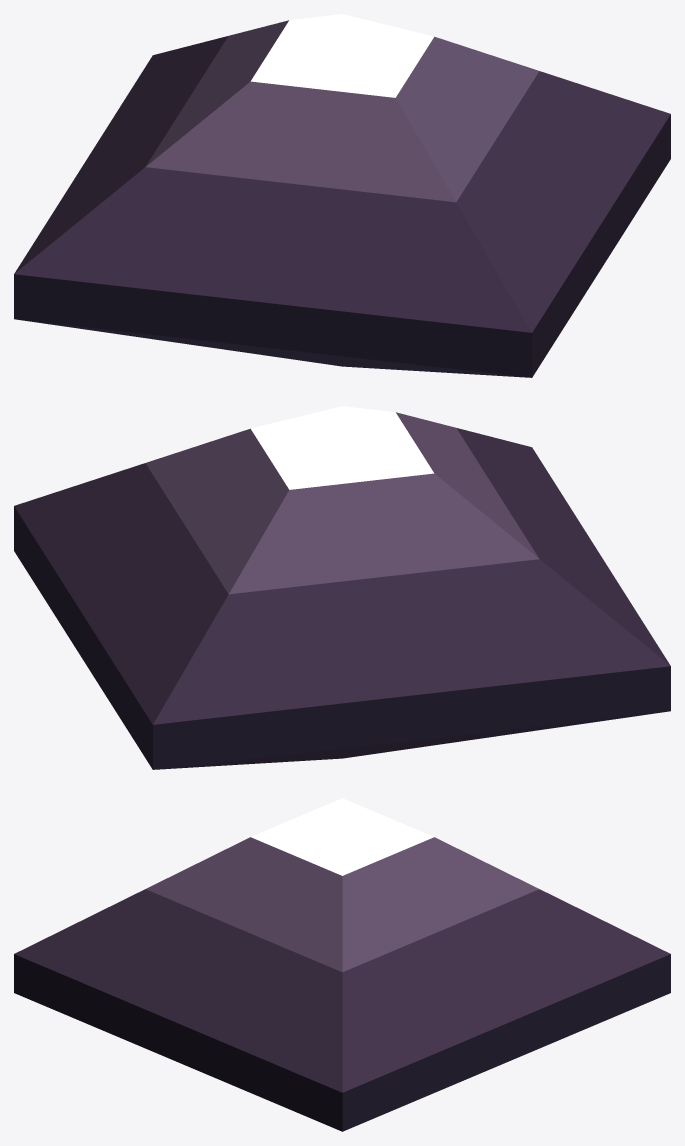
Rendered from tyrian10-57.glb.
3 renders of one model, top to bottom at view 1: azimuth 30°, elevation 25°; view 2: azimuth 150°, elevation 25°; view 3: azimuth 270°, elevation 25°, orthographic. The views are drawn at different scales.
Visible parts, largest first — view 1: tyrian10-57; view 2: tyrian10-57; view 3: tyrian10-57.
Boxes of the visible parts, x1,y1,x2,y2 form: tyrian10-57: (14, 14, 670, 377); tyrian10-57: (14, 406, 670, 769); tyrian10-57: (14, 798, 670, 1131).
Size of the model in its own units: 0.9167 by 0.47 by 0.9167.
